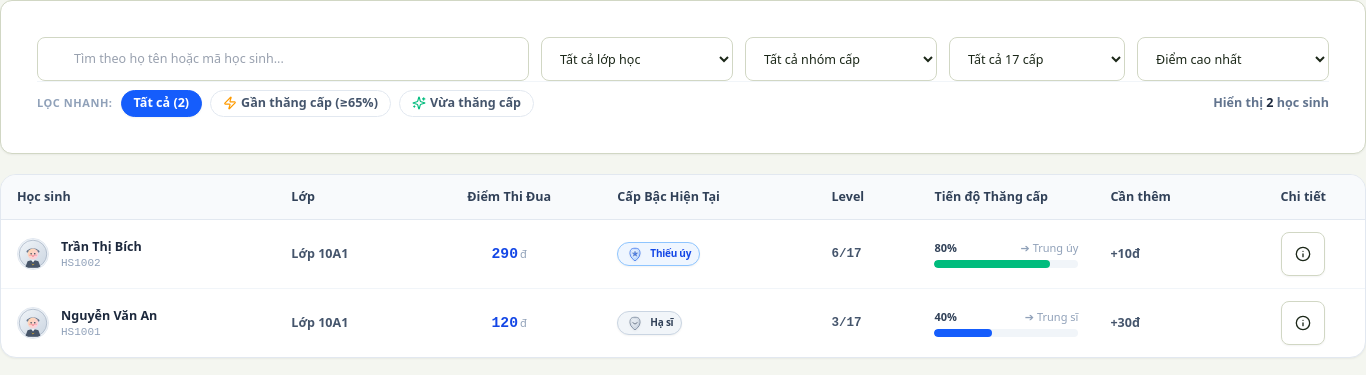
Test case: Conduct Ranks Tab Components Tests › 2. RankStudentsTab filters students by search query and shows progress
The width and height of the screenshot is (1366, 375).
Expected: the text "Nguyễn Văn An" is shown, [61,308,157,324]
Expected: the text "Trần Thị Bích" is shown, [61,239,142,256]
# Search query filter
Type "Bích" into the field with placeholder "Tìm theo họ tên hoặc mã học sinh..." at (283, 59), box [37,37,529,81]
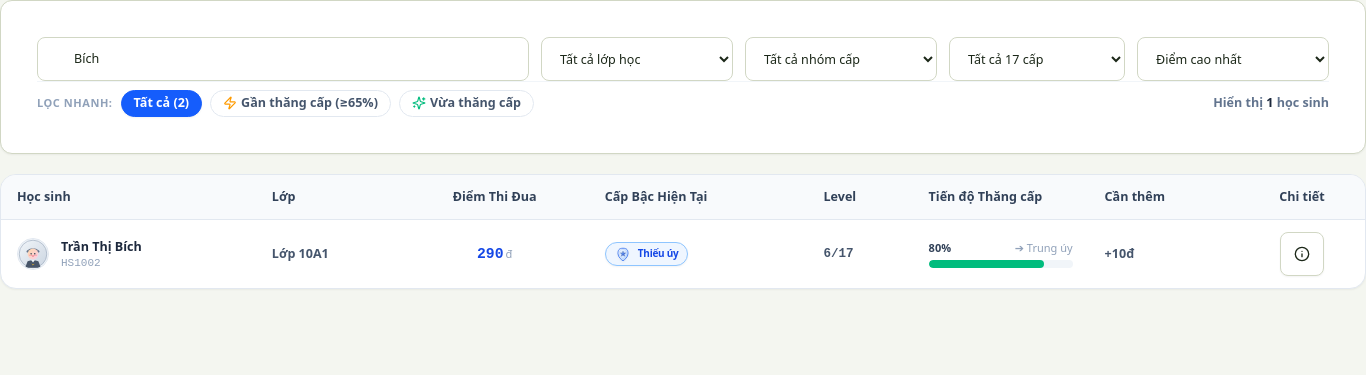
Expected: the text "Trần Thị Bích" is shown, [61,239,142,256]
Expected: the text "Nguyễn Văn An" is gone
